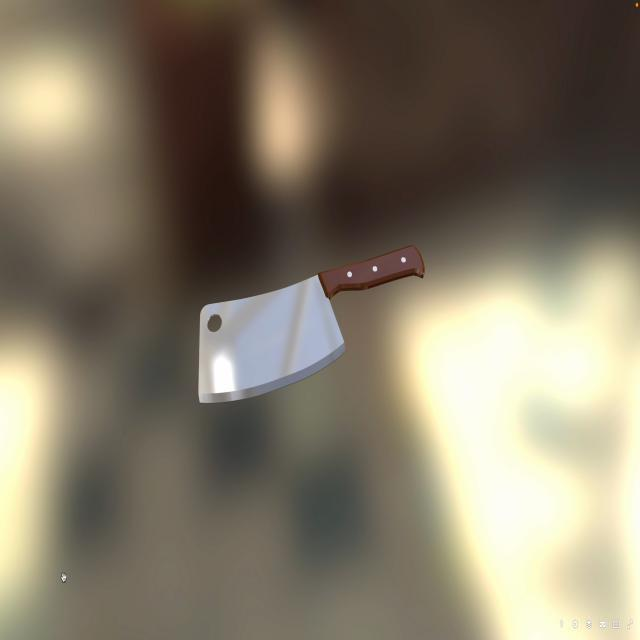cleaver: (196, 240, 427, 427)
